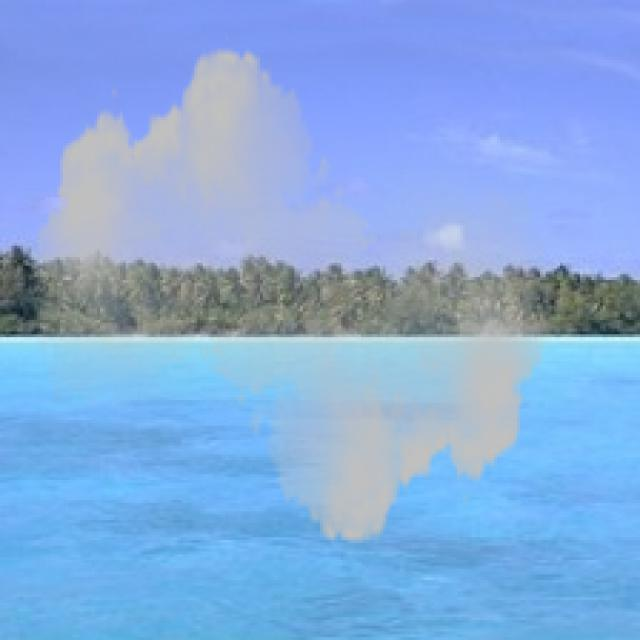Smoke: (29, 31, 552, 560)
